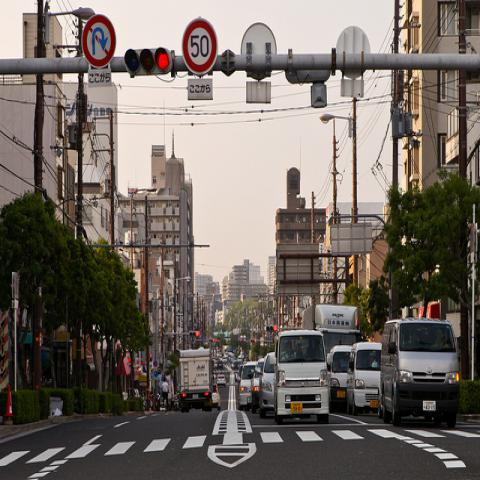bus: (274, 330, 329, 418)
car: (378, 318, 460, 426), (347, 342, 382, 418), (326, 344, 353, 402), (238, 361, 259, 414), (259, 352, 276, 417), (252, 359, 265, 410), (211, 385, 221, 410), (216, 374, 228, 386)
truck: (302, 304, 363, 359), (177, 349, 212, 412)
